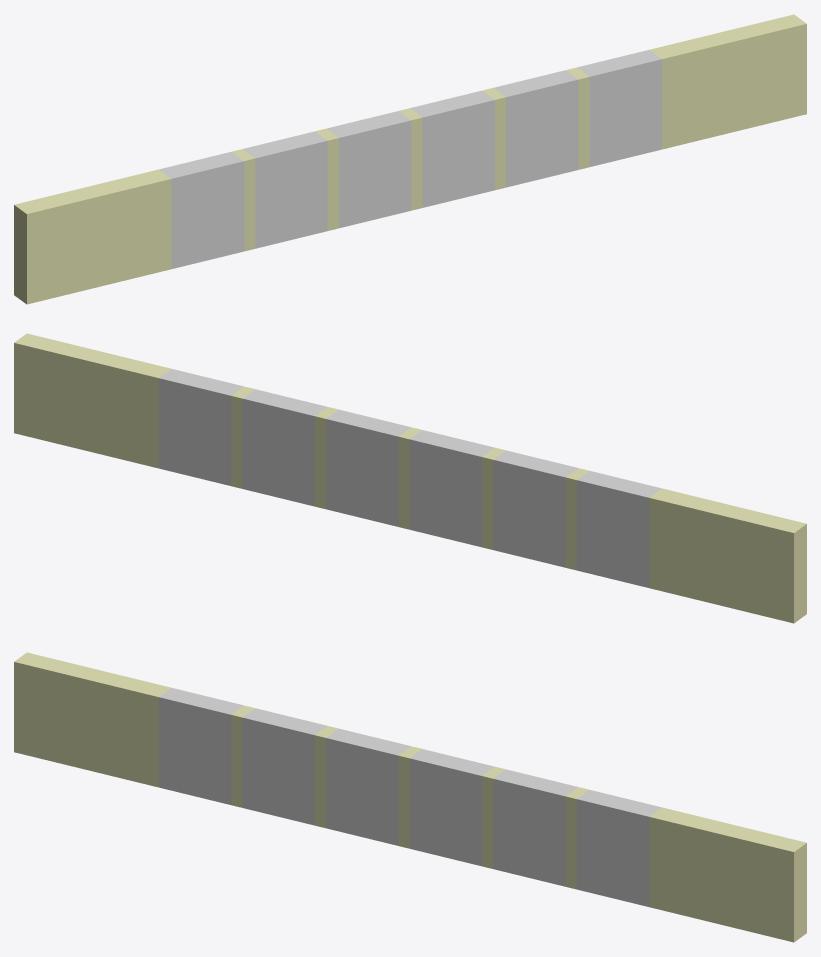
File: sensor-gate.glb
3 views of the same model, one above another, from view 1: azimuth 30°, elevation 25°; view 2: azimuth 150°, elevation 25°; view 3: azimuth 330°, elevation 25° (orthographic).
Parts seen in each view (by area): view 1: gate; view 2: gate; view 3: gate.
Boxes of the visible parts, x1,y1,x2,y2 form: gate: (14, 14, 806, 304); gate: (14, 333, 806, 623); gate: (14, 652, 806, 942).
Size of the model in its own units: 0.7 by 0.0775 by 0.02.
